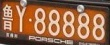Y: (16, 0, 27, 32)
